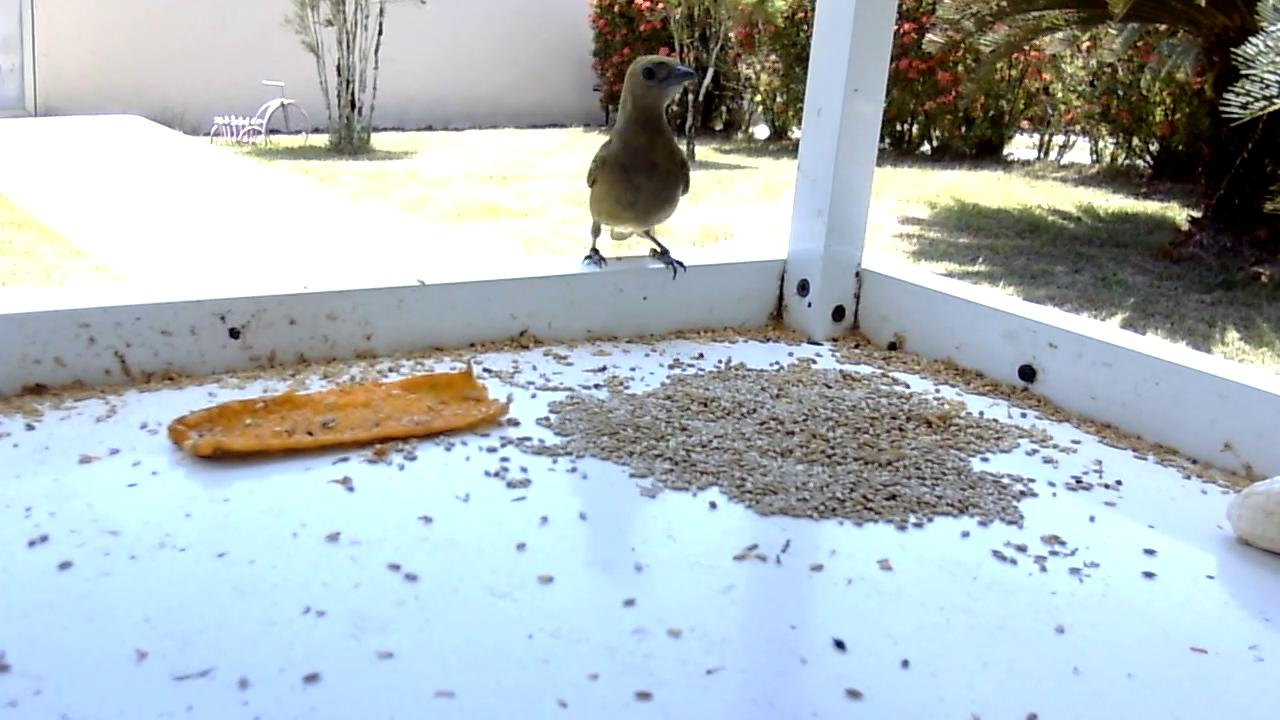sanhaco_do_coqueiro: (586, 53, 698, 284)
